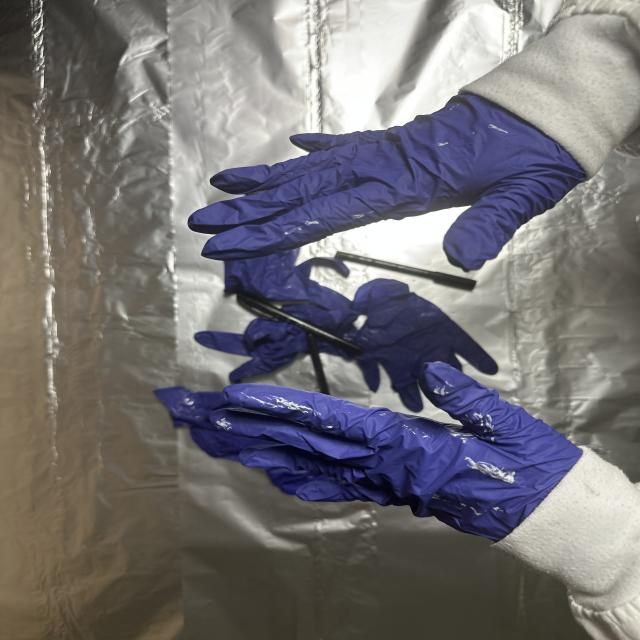gloves_contaminated: (189, 95, 585, 270), (223, 362, 579, 541)
